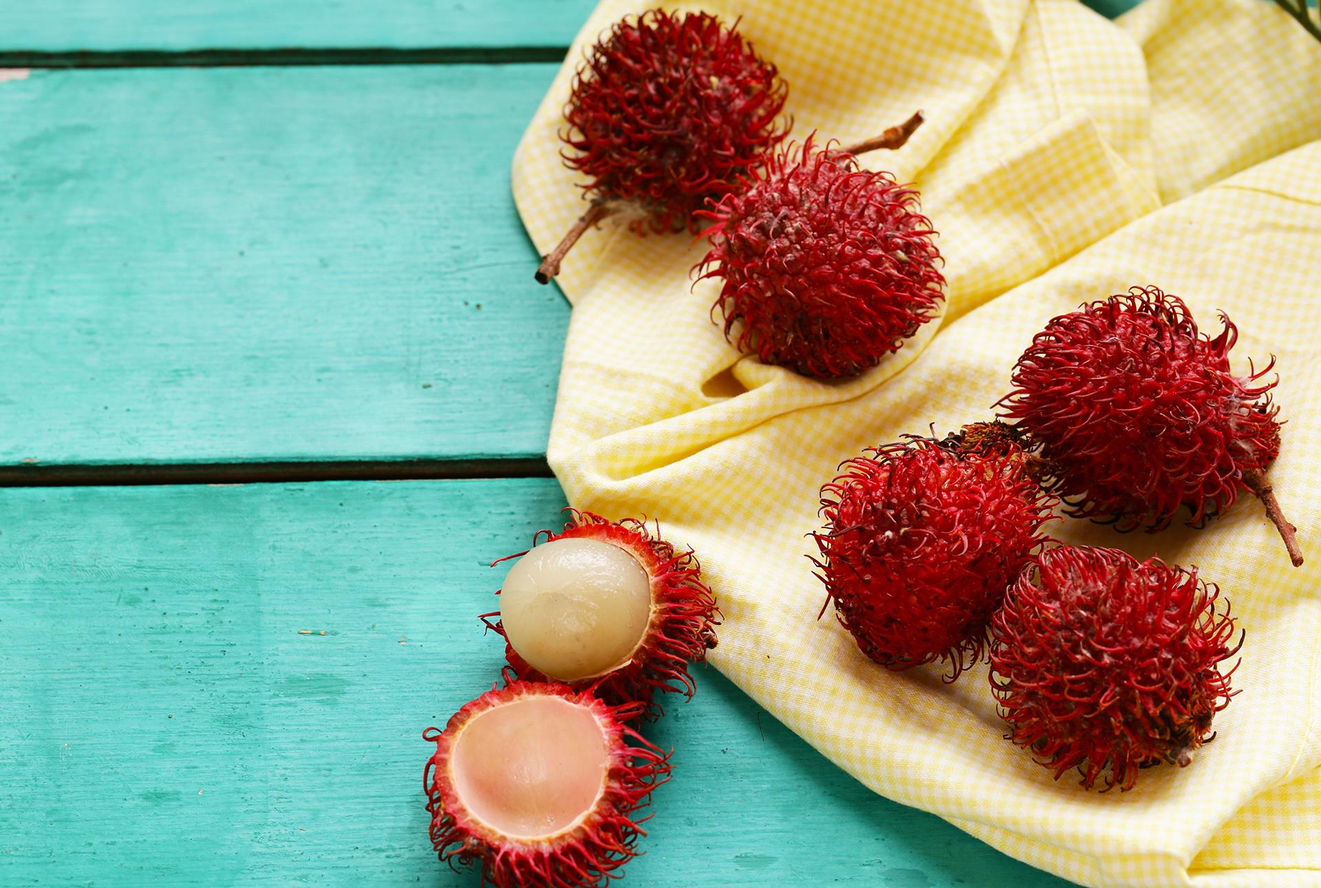chom_chom: (1015, 280, 1287, 535), (992, 542, 1225, 783), (717, 175, 946, 372), (574, 17, 770, 232)
